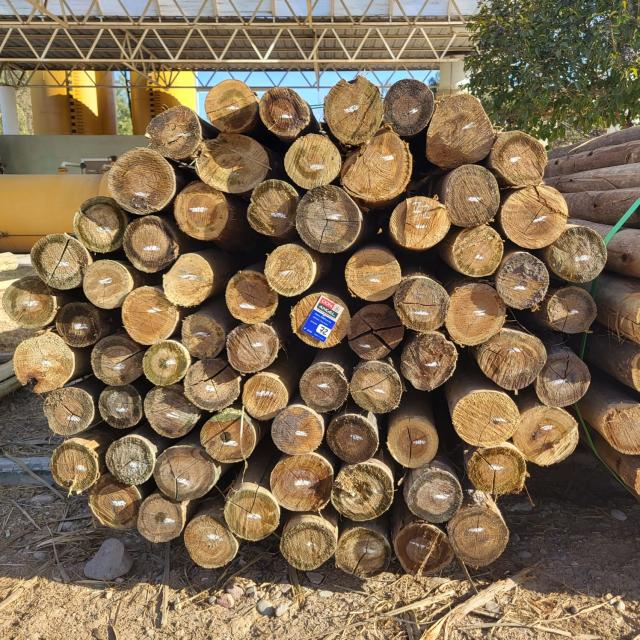package: (10, 76, 606, 570)
